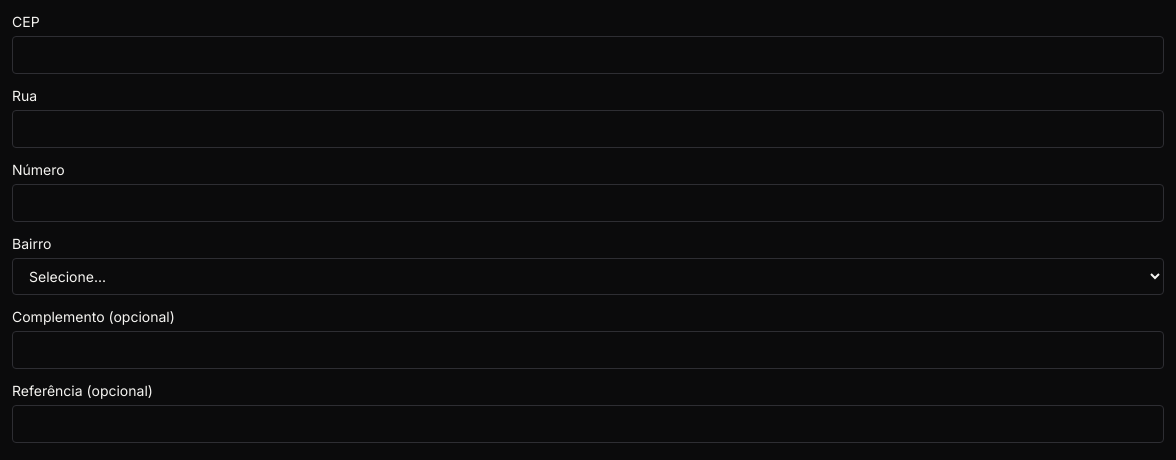
Test case: AddressForm › busca o CEP na ViaCEP e preenche rua e bairro
In the field labelled "CEP": (588, 55) 12,36 -> 1164,74, type "20000000"
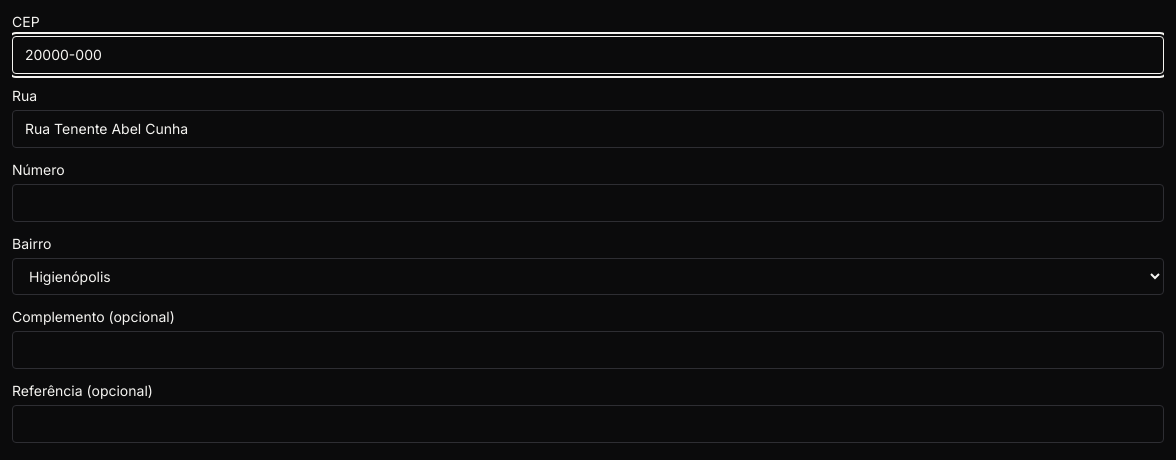
Result: the field labelled "Rua" holds "Rua Tenente Abel Cunha" at 12,110 -> 1164,148
Result: the dropdown labelled "Bairro" shows "Higienópolis" at 12,258 -> 1164,295
